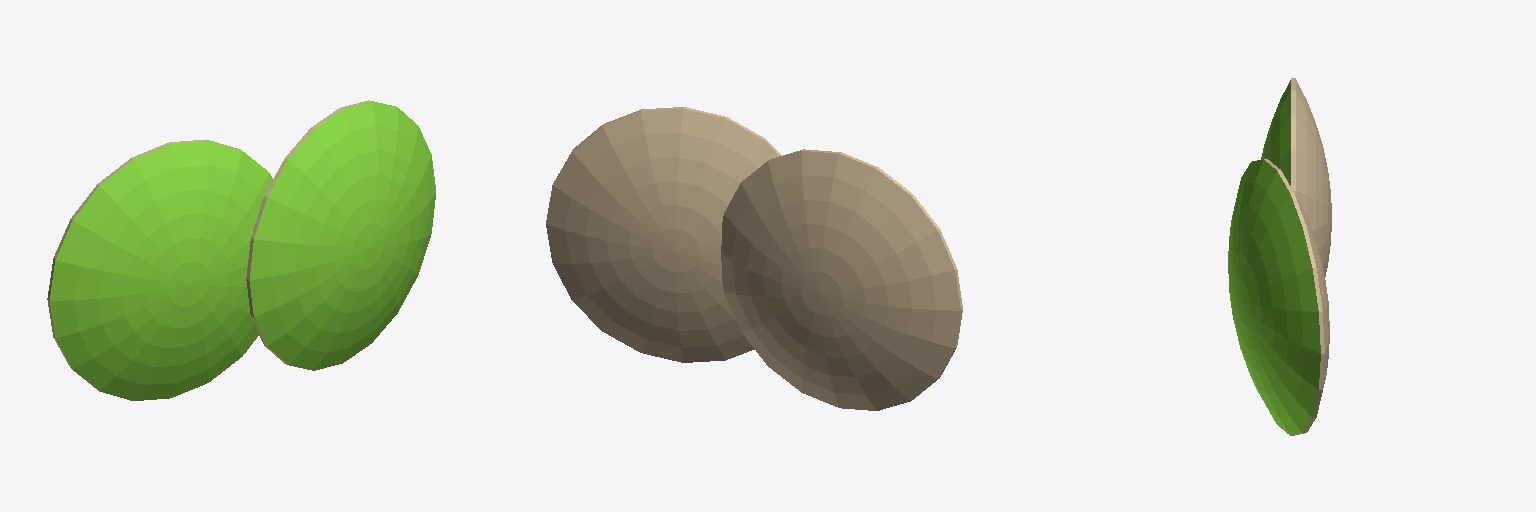
Rendered from SURABI.obj.
The picture shows the model from 3 angles: view 1: azimuth 30°, elevation 25°; view 2: azimuth 150°, elevation 25°; view 3: azimuth 270°, elevation 25°; orthographic projection.
Parts seen in each view (by area): view 1: OilTank01, OilTank02; view 2: OilTank01, OilTank02; view 3: OilTank02, OilTank01.
Part boxes in pixels (bbox=[...]): OilTank01: bbox=[47, 139, 272, 400]; OilTank02: bbox=[246, 100, 435, 370]; OilTank01: bbox=[721, 149, 962, 410]; OilTank02: bbox=[546, 107, 781, 362]; OilTank02: bbox=[1228, 159, 1329, 435]; OilTank01: bbox=[1261, 78, 1331, 276].
Size of the model in its own units: 73.09 by 44.24 by 16.42.